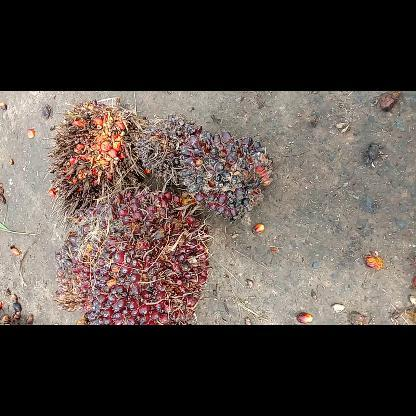TBS abnormal: (176, 128, 274, 226), (134, 112, 202, 188)
TBS masak: (52, 184, 212, 324)
Terlalu masak: (44, 95, 150, 233)
